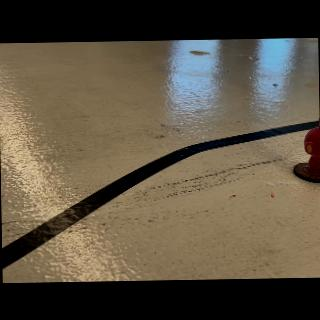teletubby: (303, 117, 320, 174)
